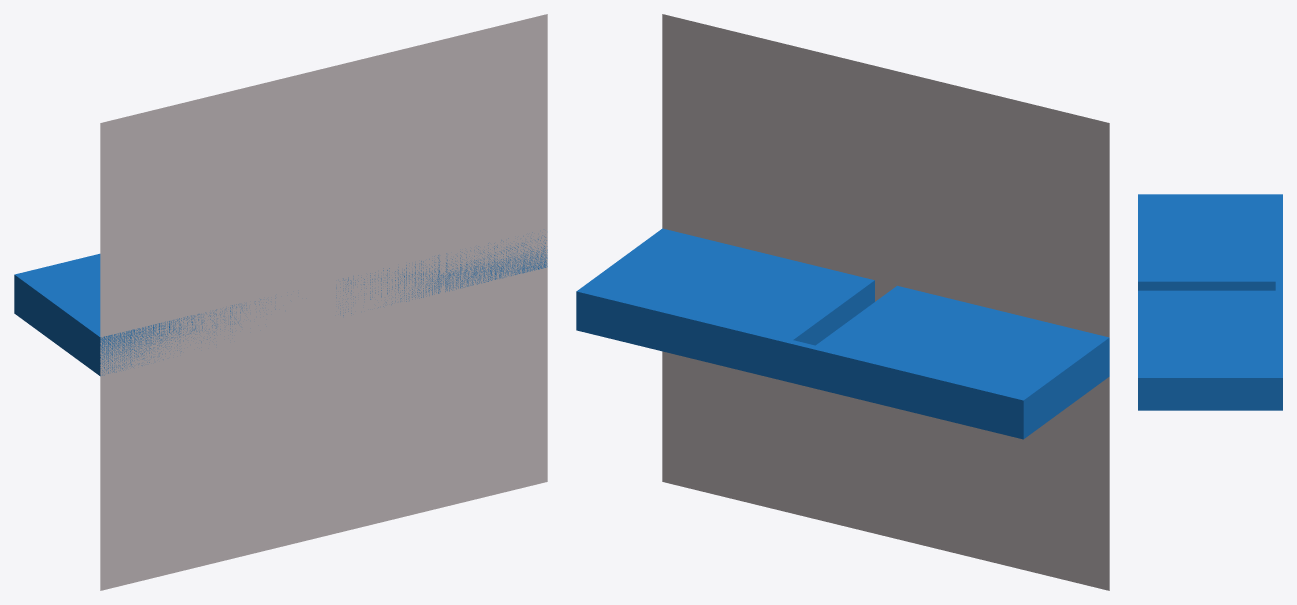
Rendered from 1_test_pasaje_estrecho.dae.
3 renders of one model, left to right at view 1: azimuth 30°, elevation 25°; view 2: azimuth 150°, elevation 25°; view 3: azimuth 270°, elevation 25°, orthographic. The views are drawn at different scales.
Parts seen in each view (by area): view 1: Suelo, Pared; view 2: Suelo, Pared; view 3: Pared.
Part boxes in pixels (x1=…): Suelo: x1=100, y1=14, x2=547, y2=590; Pared: x1=14, y1=232, x2=547, y2=376; Suelo: x1=662, y1=14, x2=1109, y2=590; Pared: x1=576, y1=228, x2=1109, y2=439; Pared: x1=1138, y1=194, x2=1282, y2=410.
Bounding box in the file's own units: 60 × 20 × 60.
